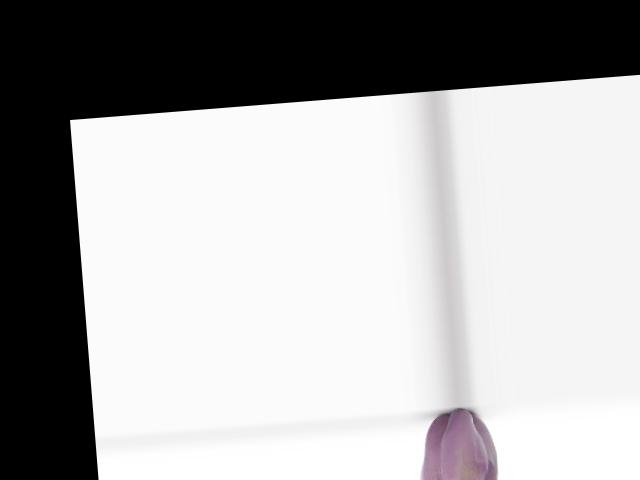bell_pepper: (409, 407, 510, 480)
